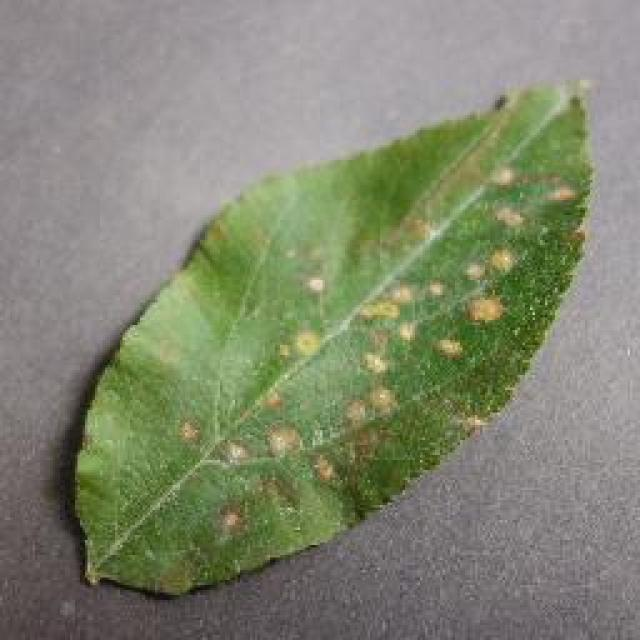apple scab disease: (70, 75, 598, 597)
